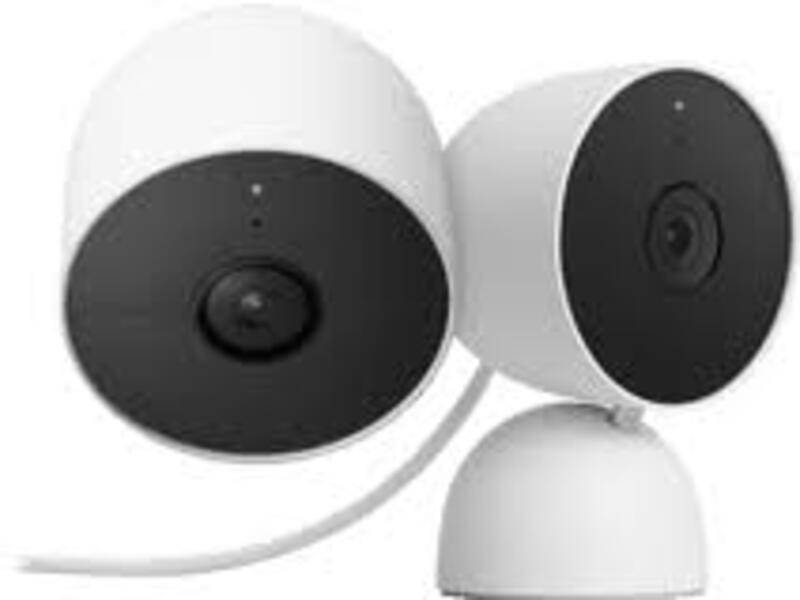nest: (43, 24, 464, 447), (447, 61, 795, 425)
